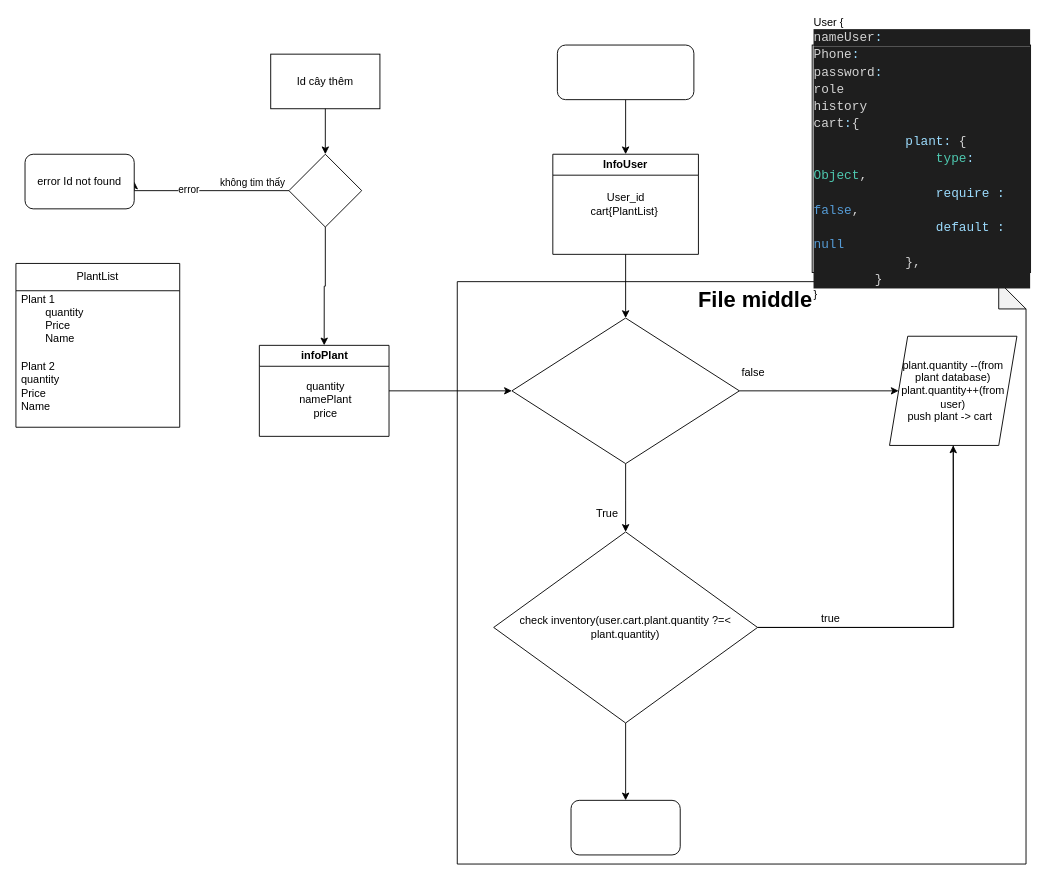
The diagram is 1047 pixels wide and 880 high, and some of its shapes have lost their labels. The shapes that lost their labels are listed below. From the top down, each one's centre as x and y in pixels, then its label:
At point 625,72: "user_id(có sẵn từ login".
At point 325,190: "findbyid".
At point 625,390: "check exist ( infoPlant.name ?= InfoUser.name)".
At point 625,827: "out of stock".
